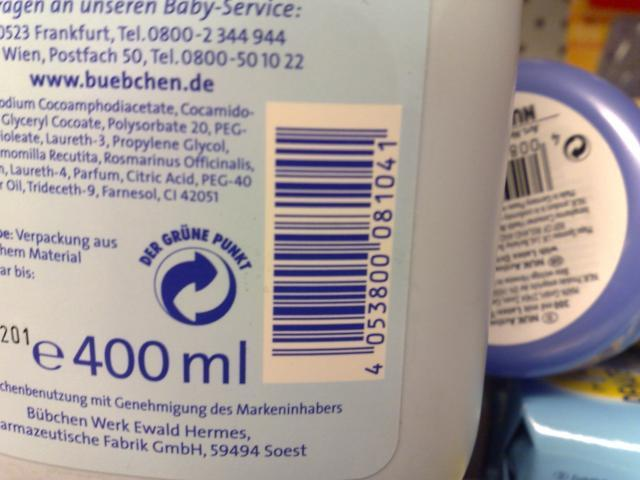Barcode: (264, 98, 403, 383)
